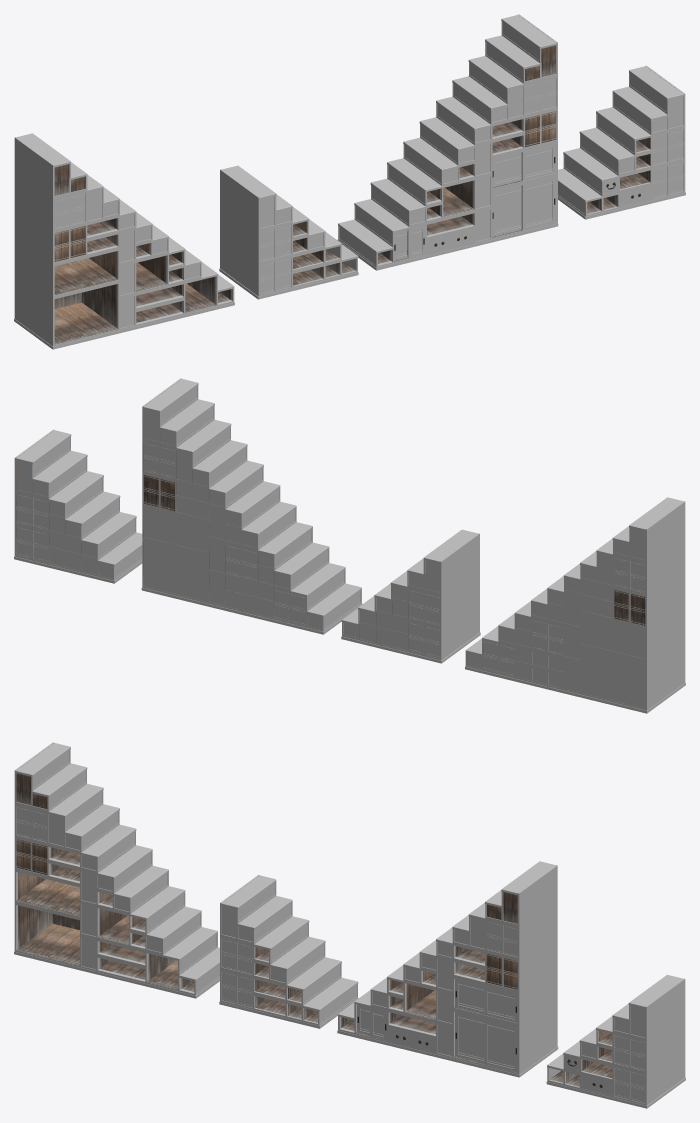
The model's file is jov_tansu_stair01a.fbx.
3 views of the same model, one above another, from view 1: azimuth 30°, elevation 25°; view 2: azimuth 150°, elevation 25°; view 3: azimuth 330°, elevation 25° (orthographic).
Visible parts, largest first — view 1: jov_tansu_stair01a_02a_l, jov_tansu_stair01a_02a_r, jov_tansu_stair01b_02a_r, jov_tansu_stair01b_02a_l, jov_tansu_stair01a_2a_chest6, jov_tansu_stair01a_2a_chest7, jov_tansu_stair01a_2a_chest5, jov_tansu_stair01a_2a_chest4, jov_tansu_stair01a_02a_chest1, jov_tansu_stair01a_2a_chest3; view 2: jov_tansu_stair01a_02a_r, jov_tansu_stair01a_02a_l, jov_tansu_stair01b_02a_r, jov_tansu_stair01b_02a_l; view 3: jov_tansu_stair01a_02a_l, jov_tansu_stair01a_02a_r, jov_tansu_stair01b_02a_l, jov_tansu_stair01b_02a_r, jov_tansu_stair01a_2a_chest6, jov_tansu_stair01a_2a_chest7, jov_tansu_stair01a_2a_chest5, jov_tansu_stair01a_2a_chest4, jov_tansu_stair01a_02a_chest1.
Part boxes in pixels (box(x1,y1,x2,y2)): jov_tansu_stair01a_02a_l: box(14, 133, 234, 349); jov_tansu_stair01a_02a_r: box(337, 14, 558, 270); jov_tansu_stair01b_02a_r: box(558, 65, 685, 219); jov_tansu_stair01b_02a_l: box(219, 165, 358, 299); jov_tansu_stair01a_2a_chest6: box(521, 177, 556, 230); jov_tansu_stair01a_2a_chest7: box(492, 185, 521, 236); jov_tansu_stair01a_2a_chest5: box(521, 144, 556, 180); jov_tansu_stair01a_2a_chest4: box(492, 152, 521, 187); jov_tansu_stair01a_02a_chest1: box(427, 230, 474, 253); jov_tansu_stair01a_2a_chest3: box(407, 225, 425, 258); jov_tansu_stair01a_02a_r: box(141, 378, 362, 634); jov_tansu_stair01a_02a_l: box(465, 497, 685, 713); jov_tansu_stair01b_02a_r: box(14, 429, 142, 583); jov_tansu_stair01b_02a_l: box(341, 529, 480, 663); jov_tansu_stair01a_02a_l: box(14, 742, 219, 998); jov_tansu_stair01a_02a_r: box(337, 861, 558, 1077); jov_tansu_stair01b_02a_l: box(219, 875, 358, 1028); jov_tansu_stair01b_02a_r: box(546, 974, 685, 1108); jov_tansu_stair01a_2a_chest6: box(484, 1019, 517, 1072); jov_tansu_stair01a_2a_chest7: box(455, 1012, 484, 1063); jov_tansu_stair01a_2a_chest5: box(484, 986, 517, 1022); jov_tansu_stair01a_2a_chest4: box(455, 979, 484, 1013); jov_tansu_stair01a_02a_chest1: box(388, 1029, 435, 1052).
Bounding box in the file's own units: 1027 × 285 × 111.
